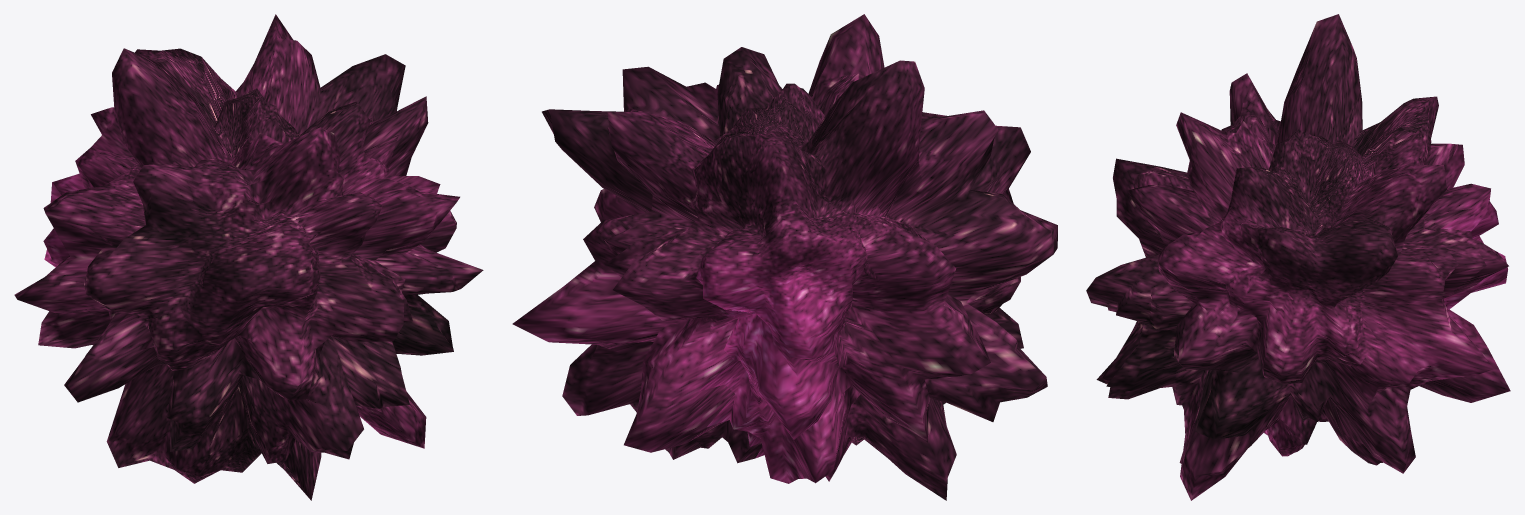
File: lithium_resource_asset.glb
3 views of the same model, side by side, from view 1: azimuth 30°, elevation 25°; view 2: azimuth 150°, elevation 25°; view 3: azimuth 270°, elevation 25° (orthographic). The views are drawn at different scales.
Parts seen in each view (by area): view 1: Cube; view 2: Cube; view 3: Cube.
Part boxes in pixels (bbox=[...]): Cube: bbox=[14, 14, 483, 500]; Cube: bbox=[512, 14, 1057, 500]; Cube: bbox=[1086, 14, 1510, 500].
Bounding box in the file's own units: 157 × 161 × 151.
Materials: 1 (1 with a texture image).
